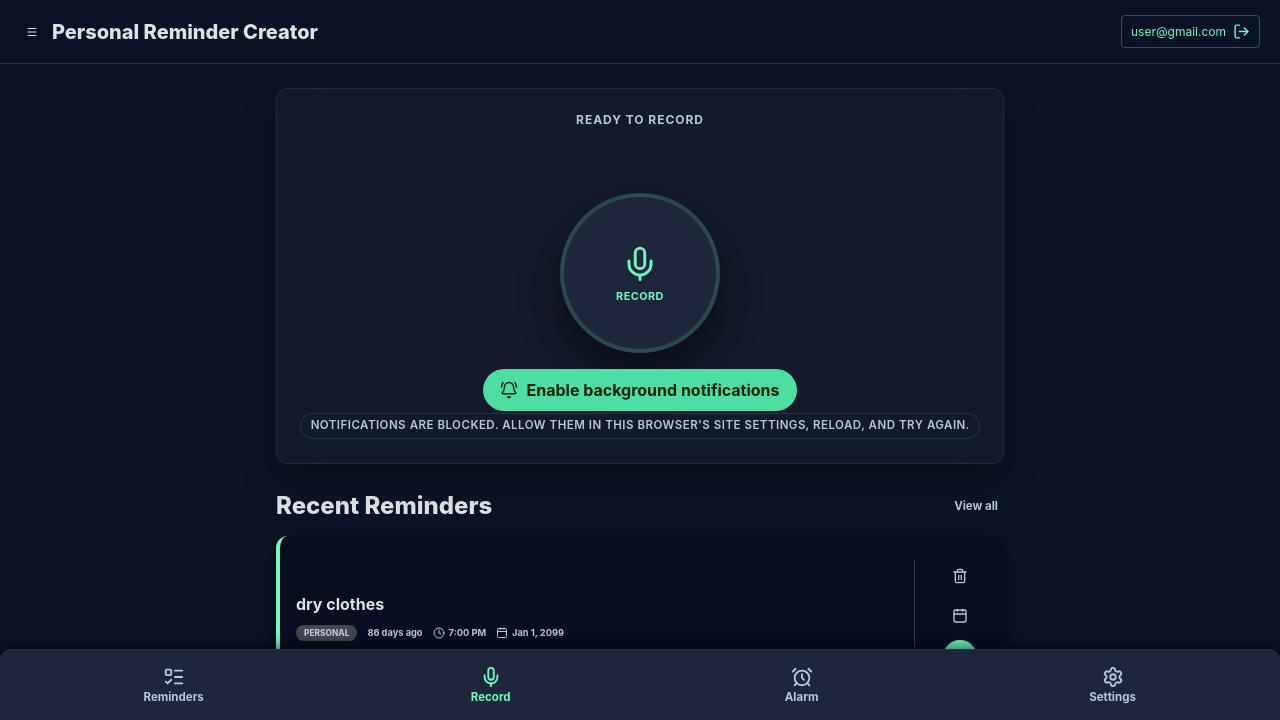
Scenario: App › deletes a reminder from the home page recent reminders list
The width and height of the screenshot is (1280, 720).
Expected: the text "dry clothes" is shown, [296,594,384,614]
Click the button named "delete dry clothes": [960, 576] box [944,560,976,592]
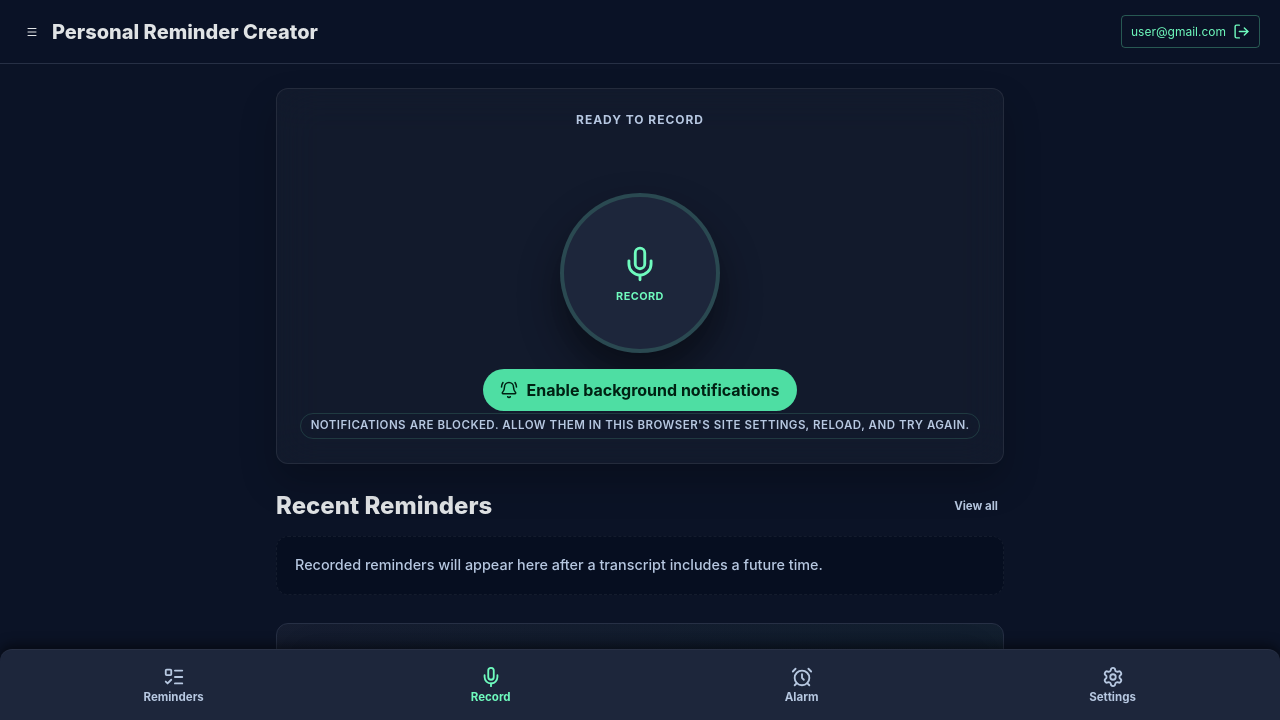
Expected: the text "dry clothes" is gone
